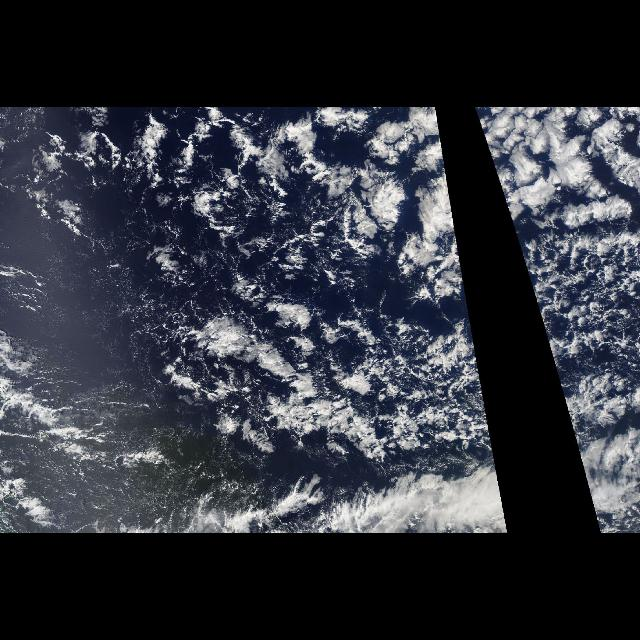Flower: (26, 108, 458, 292), (474, 107, 640, 243)
Gravel: (523, 232, 639, 370)
